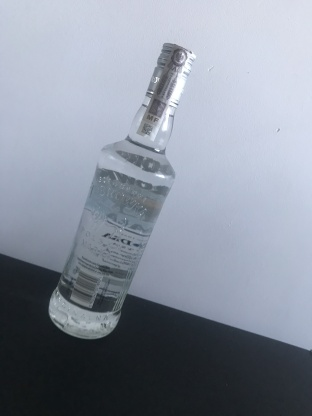nakretka: (143, 39, 198, 112)
